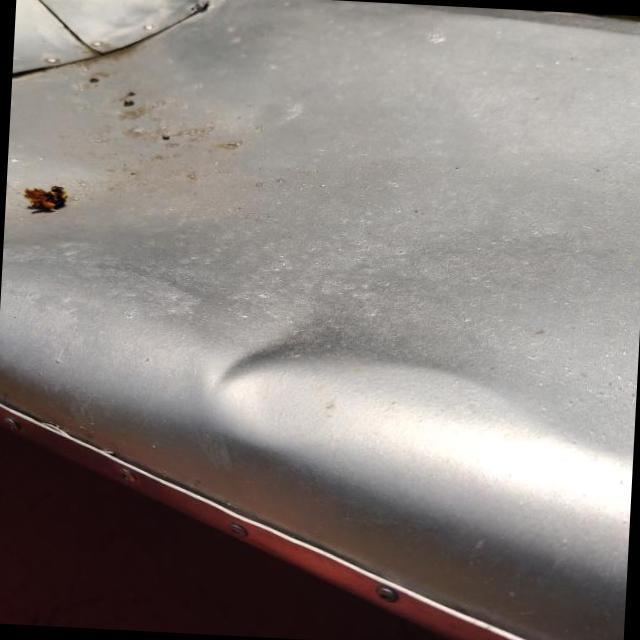dent: (194, 286, 358, 416)
